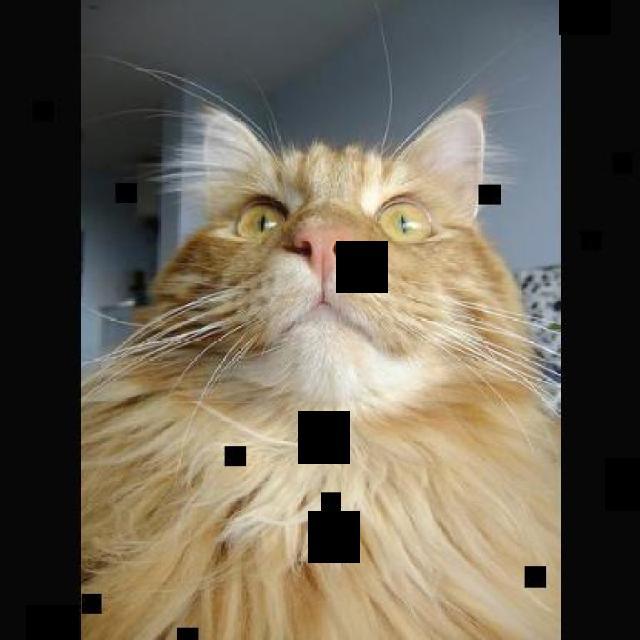unauthorized: (78, 3, 560, 639)
